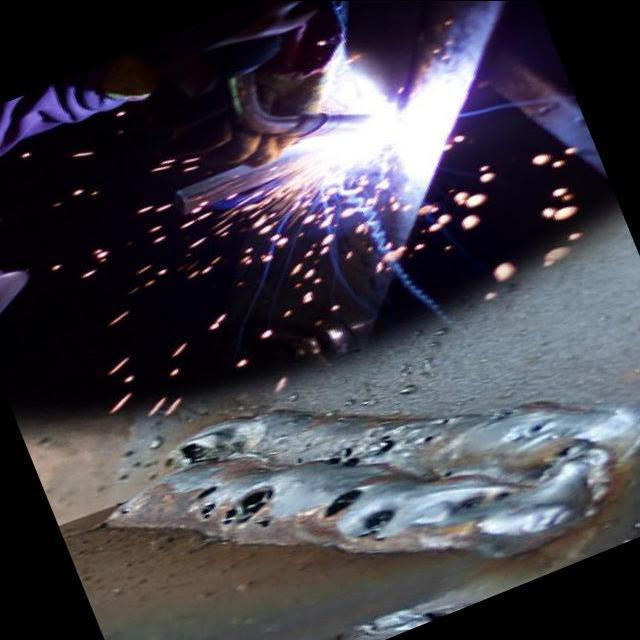defect: (186, 480, 277, 533), (177, 430, 249, 467), (311, 484, 368, 524), (353, 505, 398, 544), (540, 441, 586, 465), (321, 444, 360, 470), (372, 433, 400, 457), (453, 494, 488, 509), (524, 419, 546, 436), (492, 409, 516, 423), (493, 490, 514, 501), (117, 506, 135, 516), (419, 435, 435, 444), (297, 443, 313, 452), (290, 457, 305, 466), (442, 470, 456, 478), (439, 419, 449, 424)
